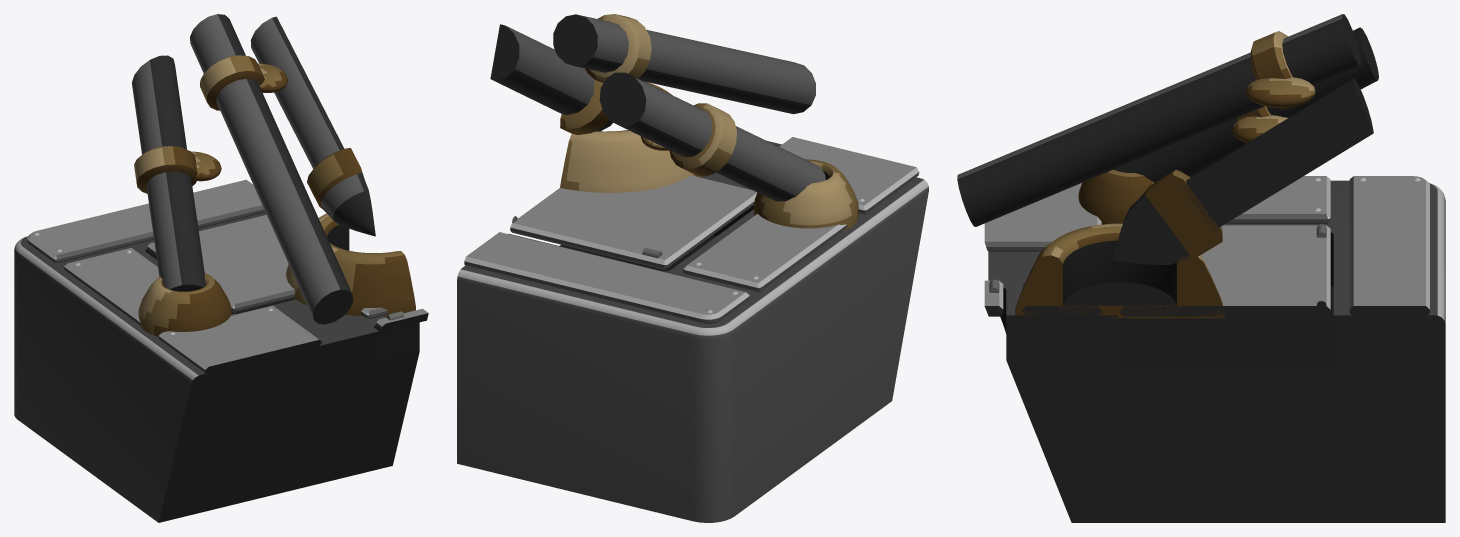
The model's file is asteroid_rig_tl_81.glb.
The picture shows the model from 3 angles, left to right: view 1: azimuth 30°, elevation 25°; view 2: azimuth 150°, elevation 25°; view 3: azimuth 270°, elevation 25°; orthographic projection. The views are drawn at different scales.
Visible parts, largest first — view 1: asteroid_rig_tl_81; view 2: asteroid_rig_tl_81; view 3: asteroid_rig_tl_81.
Boxes of the visible parts, x1,y1,x2,y2 form: asteroid_rig_tl_81: (14, 14, 428, 522); asteroid_rig_tl_81: (457, 14, 928, 522); asteroid_rig_tl_81: (957, 14, 1445, 522).
Size of the model in its own units: 20 by 31.47 by 29.84.
